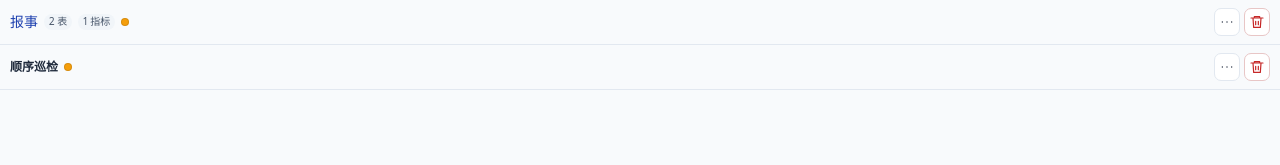
Test: 后端拒绝时把原因显示出来
Expected: the button "报事" is shown, left=10, top=11, right=38, bottom=33
What coordinates should you click on to do the following:
click the button named "删除这条术语" in the row of "指标"
I would click on:
 (1257, 22)
Its box is left=1244, top=8, right=1270, bottom=36.
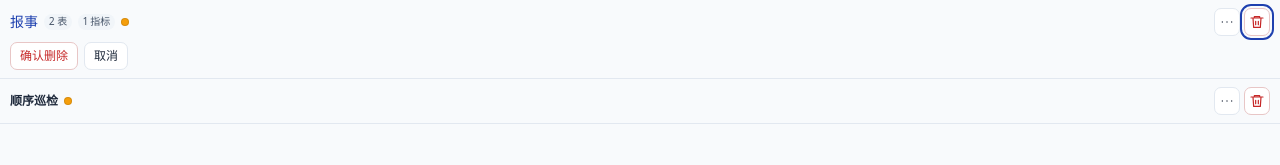
What coordinates should you click on to do the following:
click the button "确认删除"
I would click on:
 (44, 56)
Its box is left=10, top=42, right=78, bottom=70.
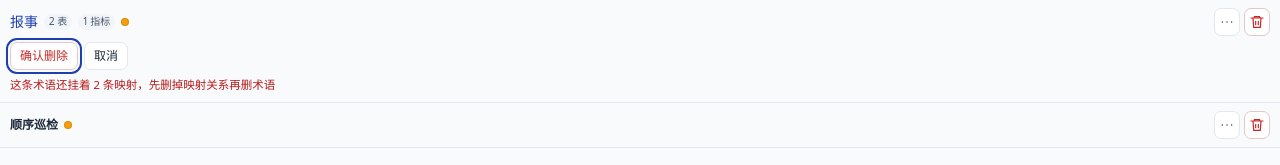
Result: the message shows "还挂着 2 条映射" at left=10, top=77, right=275, bottom=92
